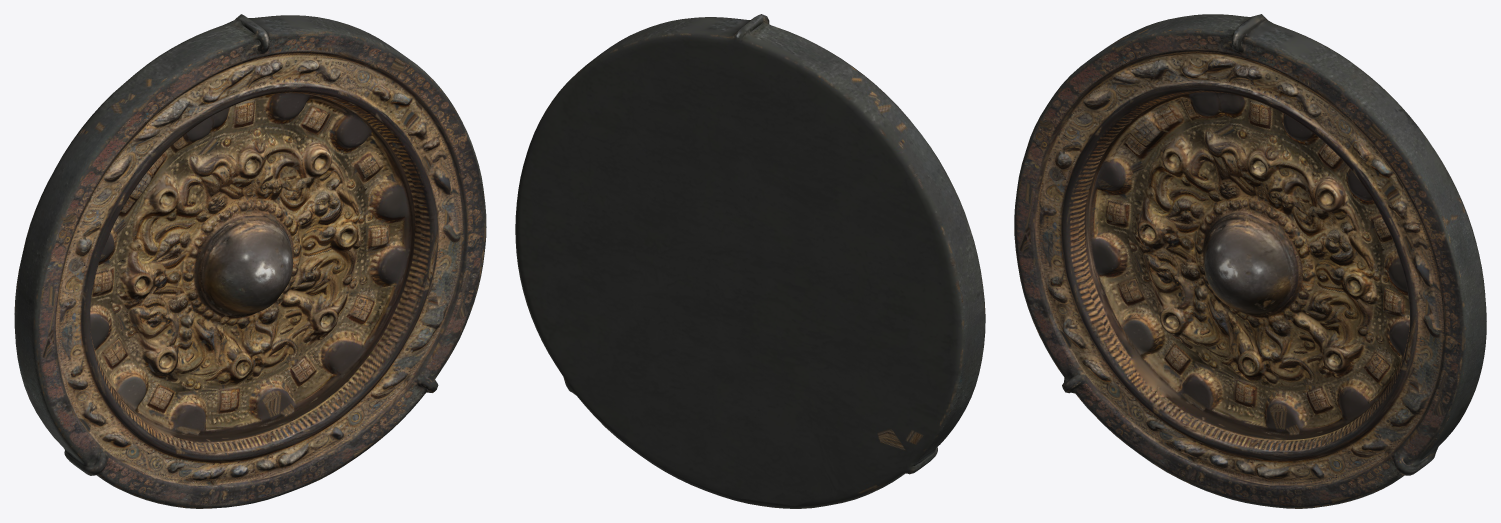
The model's file is 09-east-han-mirror.glb.
3 views of the same model, side by side, from view 1: azimuth 30°, elevation 25°; view 2: azimuth 150°, elevation 25°; view 3: azimuth 330°, elevation 25° (orthographic).
Parts seen in each view (by area): view 1: Retopo_node_0.001; view 2: Retopo_node_0.001; view 3: Retopo_node_0.001.
Boxes of the visible parts, left/top/right/bottom form: Retopo_node_0.001: left=14, top=14, right=486, bottom=508; Retopo_node_0.001: left=515, top=14, right=985, bottom=508; Retopo_node_0.001: left=1014, top=14, right=1486, bottom=508.
Bounding box in the file's own units: 115 × 115 × 14.24.
Materials: 1 (1 with a texture image).
